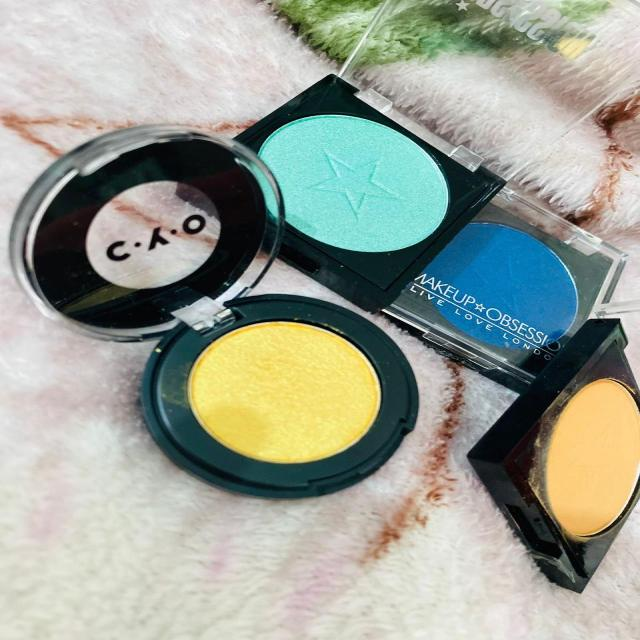highlighter: (137, 294, 392, 481), (258, 97, 446, 276), (515, 338, 640, 574)
